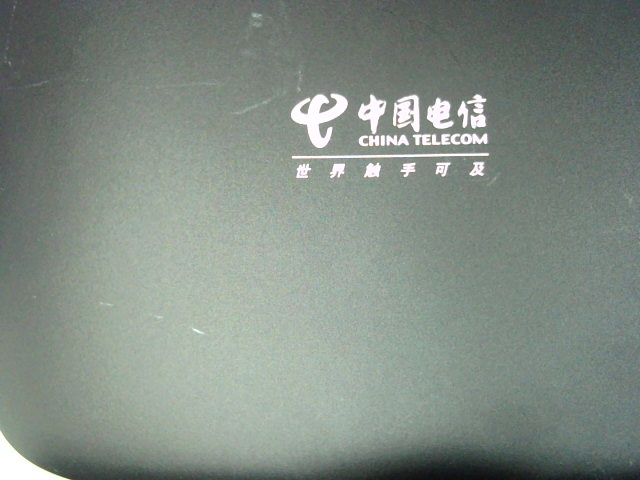AB_ChinaTelecom: (279, 90, 506, 187)
